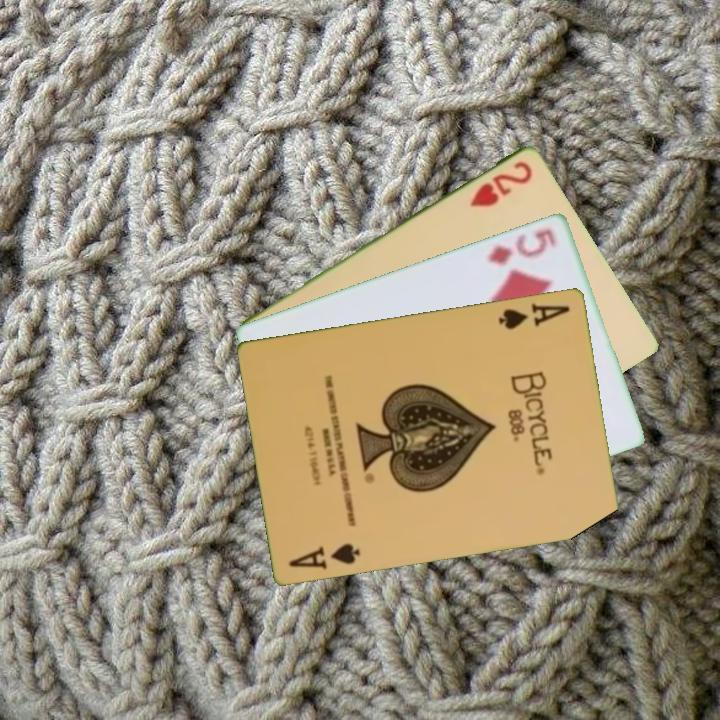2h: (465, 156, 536, 210)
5d: (483, 224, 559, 267)
As: (495, 299, 573, 332), (285, 539, 363, 572)
